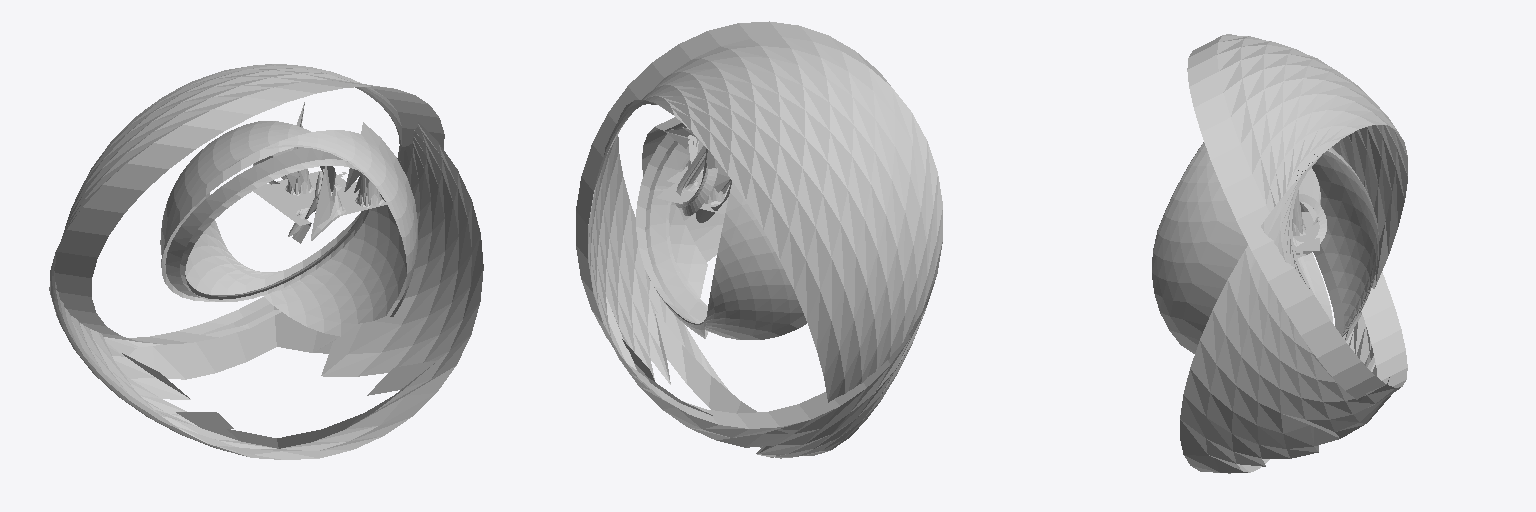
The model's file is modelscape.obj.
The picture shows the model from 3 angles: view 1: azimuth 30°, elevation 25°; view 2: azimuth 150°, elevation 25°; view 3: azimuth 270°, elevation 25°; orthographic projection.
Visible parts, largest first — view 1: Plane; view 2: Plane; view 3: Plane.
Boxes of the visible parts, box(x1,y1,x2,y2) form: Plane: box(49, 64, 483, 459); Plane: box(576, 21, 942, 458); Plane: box(1152, 34, 1407, 473).
Size of the model in its own units: 32.36 by 32.6 by 19.45.